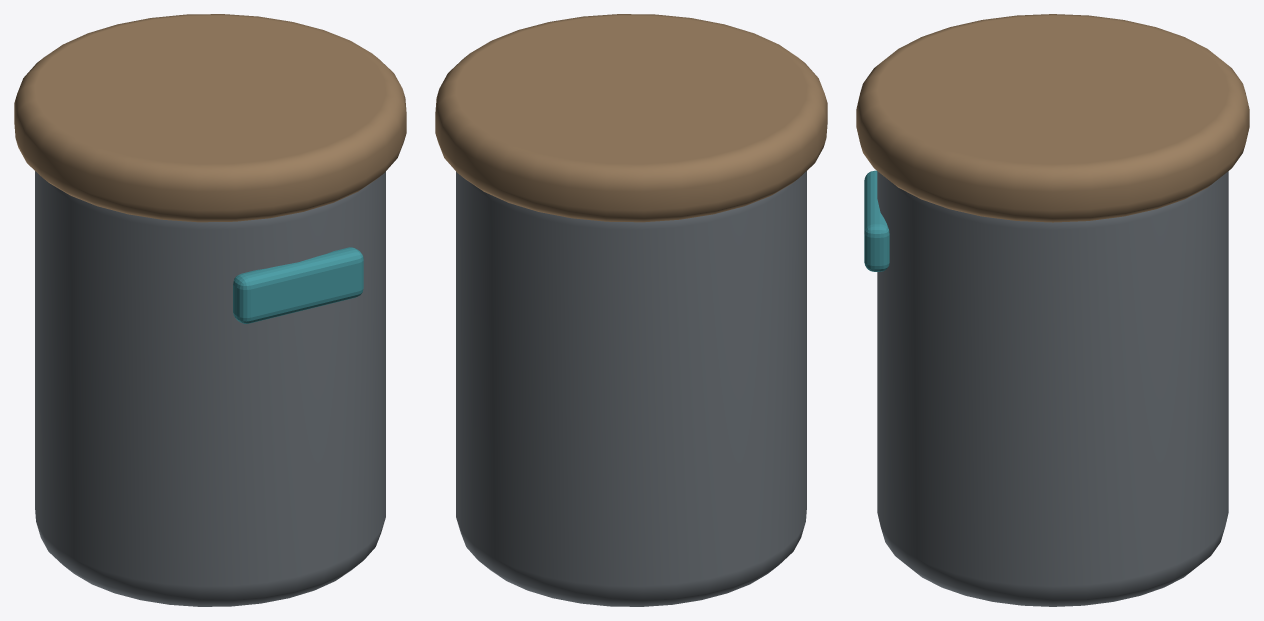
File: bin_civic_lod0_v2.glb
3 renders of one model, left to right at view 1: azimuth 30°, elevation 25°; view 2: azimuth 150°, elevation 25°; view 3: azimuth 270°, elevation 25°, orthographic.
Visible parts, largest first — view 1: LOD0_BIN_CIVIC_Body, LOD0_BIN_CIVIC_Lid, LOD0_BIN_CIVIC_Slot; view 2: LOD0_BIN_CIVIC_Body, LOD0_BIN_CIVIC_Lid; view 3: LOD0_BIN_CIVIC_Body, LOD0_BIN_CIVIC_Lid, LOD0_BIN_CIVIC_Slot.
Part boxes in pixels (left/top/right/bottom): LOD0_BIN_CIVIC_Body: left=35, top=171, right=385, bottom=606; LOD0_BIN_CIVIC_Lid: left=14, top=14, right=406, bottom=222; LOD0_BIN_CIVIC_Slot: left=233, top=247, right=363, bottom=323; LOD0_BIN_CIVIC_Body: left=456, top=171, right=806, bottom=606; LOD0_BIN_CIVIC_Lid: left=435, top=14, right=827, bottom=222; LOD0_BIN_CIVIC_Body: left=877, top=171, right=1228, bottom=606; LOD0_BIN_CIVIC_Lid: left=856, top=14, right=1249, bottom=222; LOD0_BIN_CIVIC_Slot: left=864, top=170, right=889, bottom=271.
Size of what is drawn, in the model's own units: 0.76 by 0.97 by 0.76.
